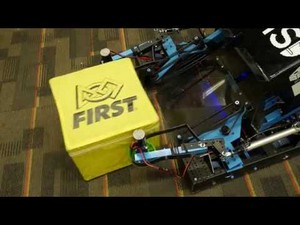cube: (50, 56, 162, 181)
